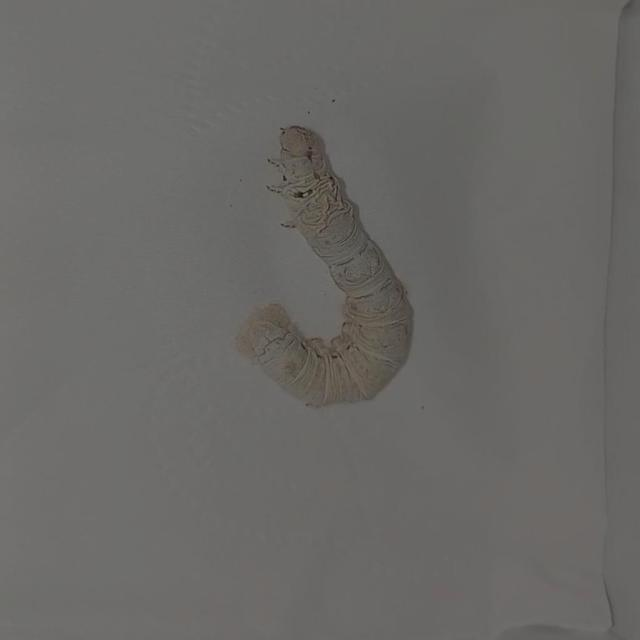Healthy: (212, 99, 432, 443)
